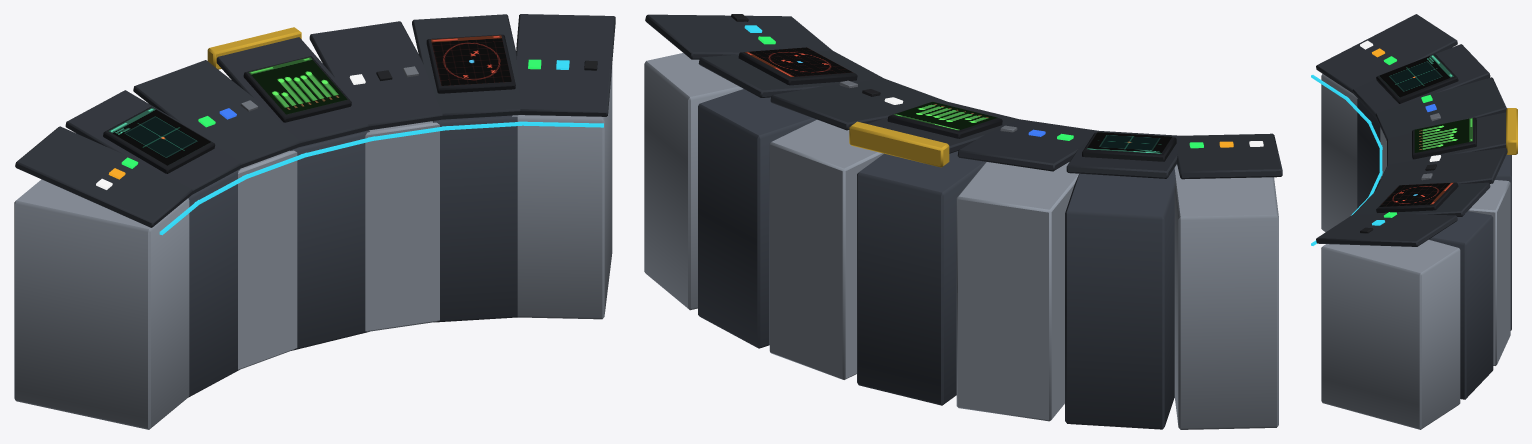
Rendered from console_curved_command_desk.glb.
3 renders of one model, left to right at view 1: azimuth 30°, elevation 25°; view 2: azimuth 150°, elevation 25°; view 3: azimuth 270°, elevation 25°, orthographic. The views are drawn at different scales.
Visible parts, largest first — view 1: console_curved_command_desk; view 2: console_curved_command_desk; view 3: console_curved_command_desk.
Boxes of the visible parts, x1=… form: console_curved_command_desk: x1=14, y1=14, x2=615, y2=429; console_curved_command_desk: x1=644, y1=14, x2=1282, y2=429; console_curved_command_desk: x1=1311, y1=14, x2=1517, y2=429.
Size of the model in its own units: 2.71 by 1.06 by 1.03.
15 materials, 3 textured.
